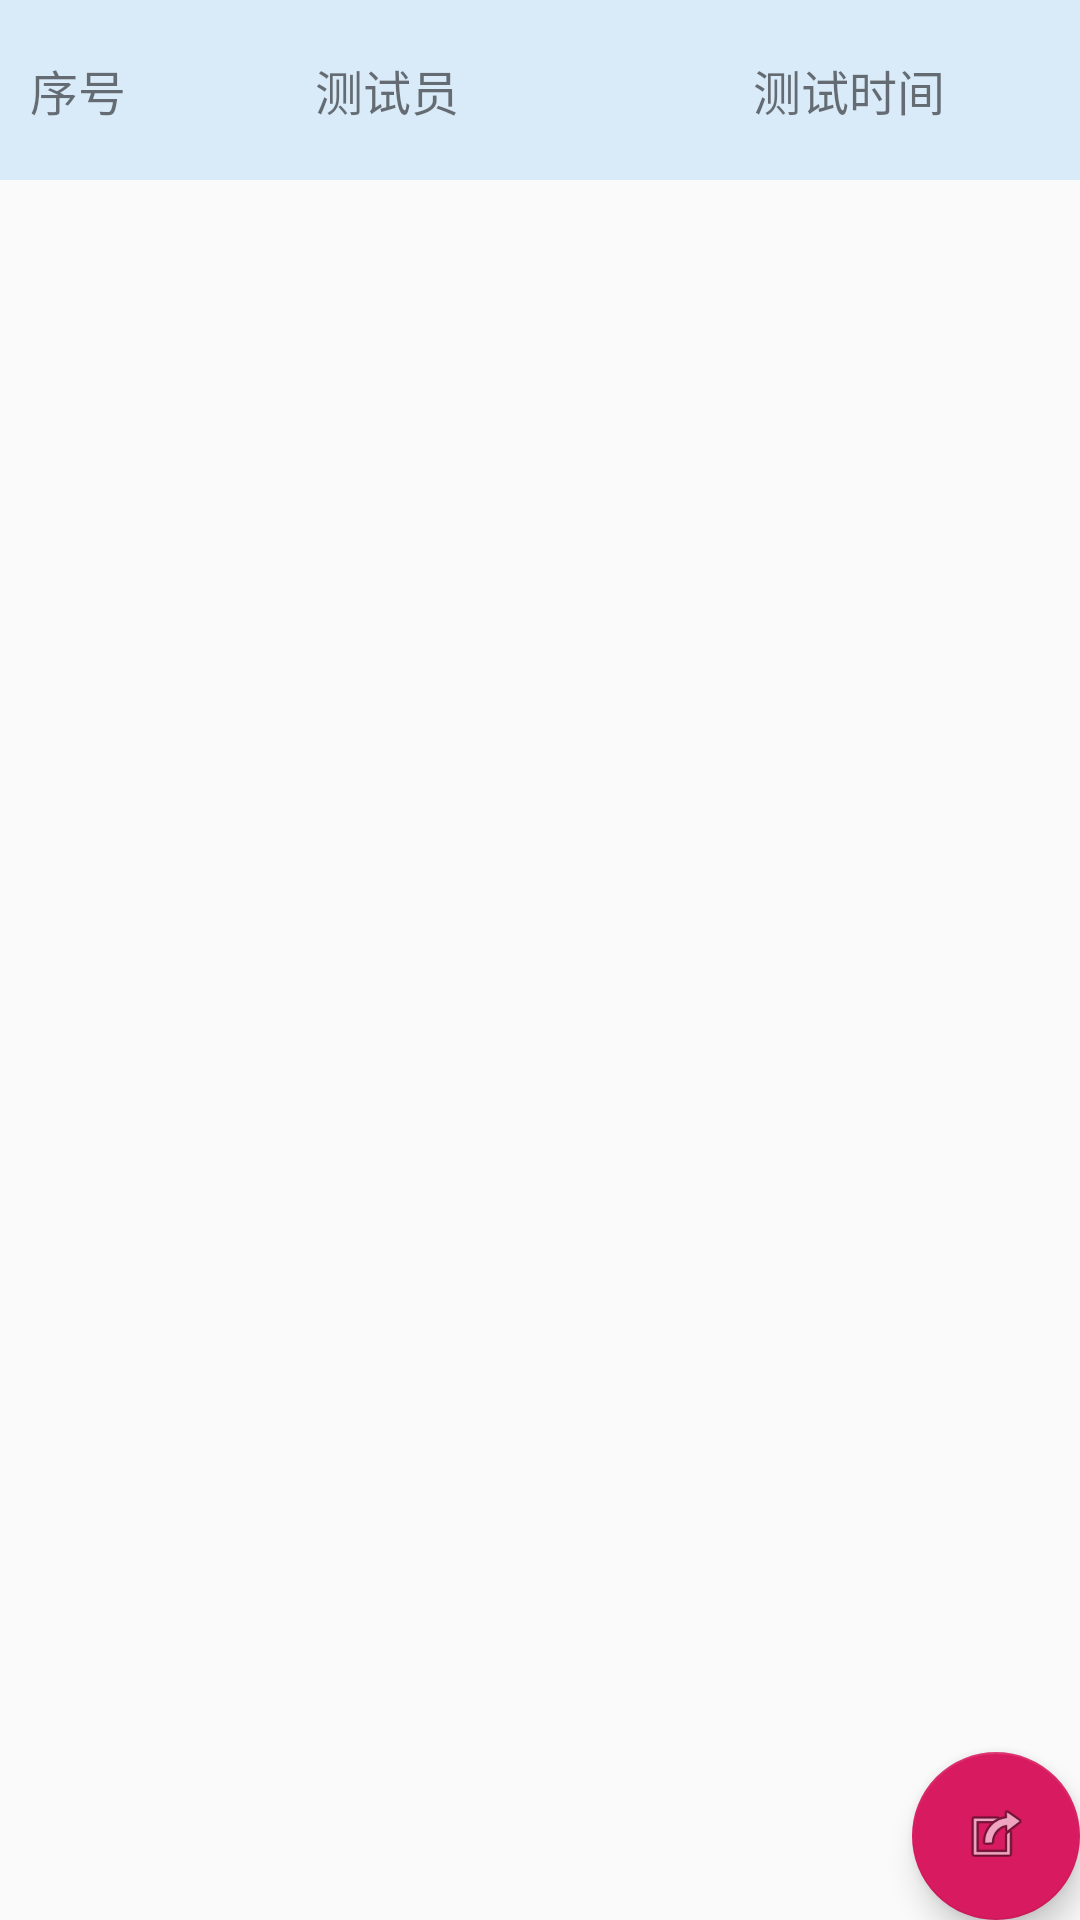

Icon click points for this 1080 × 1920 phone screenshot, format point (x, y):
set as: point (996, 1836)
